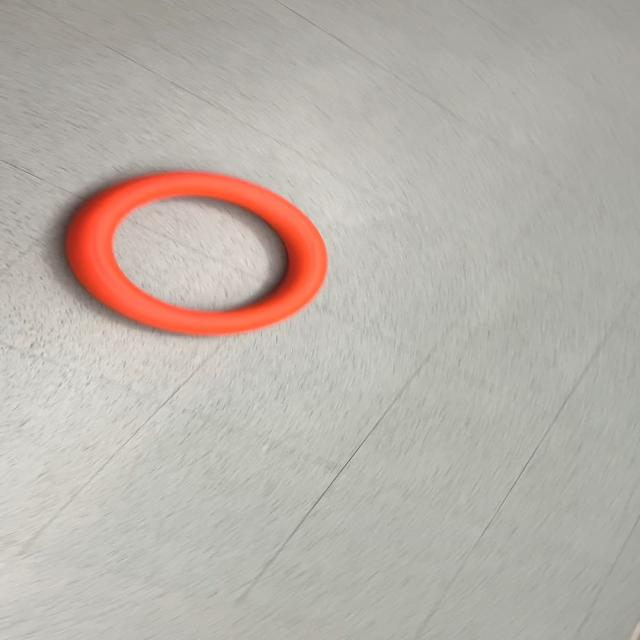note: (62, 170, 330, 338)
